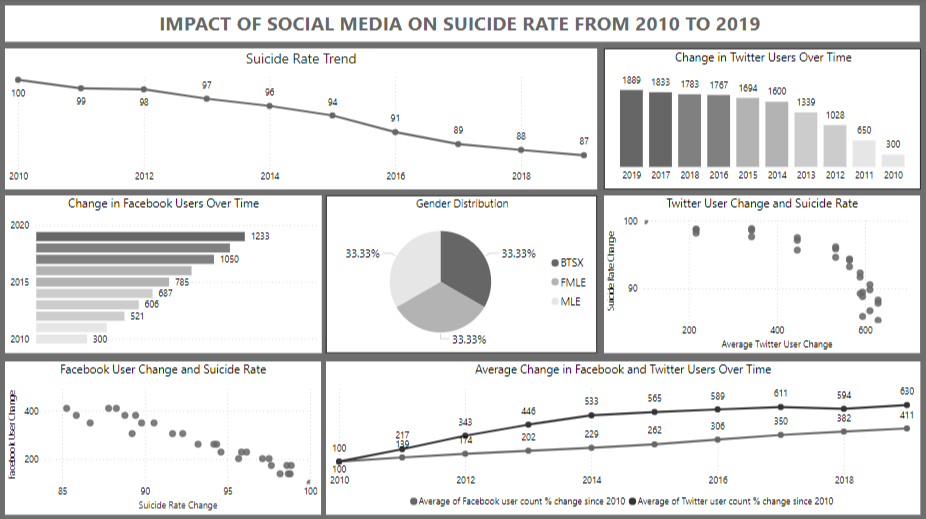

The page's visual inventory and layout, read from the dashboard file:
{"tool":"powerbi","page":{"name":"Page 1","canvas":[1280,720],"ordinal":0},"visuals":[{"type":"pieChart","title":"Gender Distribution","fields":{"Category":["social-media-impact-on-suicide-rates.sex"],"Y":["CountNonNull(social-media-impact-on-suicide-rates.sex)"]},"box":[452.8,271.1,373,217.5],"z":0},{"type":"lineChart","title":"Suicide Rate Trend","fields":{"Category":["social-media-impact-on-suicide-rates.year"],"Y":["Avg(social-media-impact-on-suicide-rates.Suicide Rate % change since 2010)"]},"box":[11,68.8,814.8,194.1],"z":1},{"type":"clusteredBarChart","title":"Change in Facebook Users Over Time","fields":{"Category":["social-media-impact-on-suicide-rates.year"],"Y":["Sum(social-media-impact-on-suicide-rates.Facebook user count % change since 2010)"]},"box":[11,271.1,436.3,217.5],"z":2},{"type":"clusteredColumnChart","title":"Change in Twitter Users Over Time","fields":{"Category":["social-media-impact-on-suicide-rates.year"],"Y":["Sum(social-media-impact-on-suicide-rates.Twitter user count % change since 2010)"]},"box":[835.4,68.8,436.3,194.1],"z":3},{"type":"scatterChart","title":"Facebook User Change and Suicide Rate","fields":{"X":["Avg(social-media-impact-on-suicide-rates.Suicide Rate % change since 2010)"],"Y":["Avg(social-media-impact-on-suicide-rates.Facebook user count % change since 2010)"],"Category":["social-media-impact-on-suicide-rates.Suicide Rate % change since 2010"]},"box":[11,499.6,434.9,210.6],"z":4},{"type":"scatterChart","title":"Twitter User Change and Suicide Rate","fields":{"X":["Avg(social-media-impact-on-suicide-rates.Twitter user count % change since 2010)"],"Y":["Avg(social-media-impact-on-suicide-rates.Suicide Rate % change since 2010)"],"Category":["social-media-impact-on-suicide-rates.Suicide Rate % change since 2010"]},"box":[835.4,271.1,434.9,217.5],"z":5},{"type":"lineChart","title":"Average Change in Facebook and Twitter Users Over Time","fields":{"Category":["social-media-impact-on-suicide-rates.year"],"Y":["Avg(social-media-impact-on-suicide-rates.Facebook user count % change since 2010)","Avg(social-media-impact-on-suicide-rates.Twitter user count % change since 2010)"]},"box":[452.8,499.6,817.5,210.6],"z":6},{"type":"textbox","box":[11,9.6,1259.4,49.5],"z":7}]}

Visuals, with their boxes in screenshot pixels (x1, y1, x2, y2), scaled from the page's 1280x720 canvas onto the 926x519 screenshot:
"Gender Distribution" pieChart: crop(328, 195, 597, 352)
"Suicide Rate Trend" lineChart: crop(8, 50, 597, 190)
"Change in Facebook Users Over Time" clusteredBarChart: crop(8, 195, 324, 352)
"Change in Twitter Users Over Time" clusteredColumnChart: crop(604, 50, 920, 190)
"Facebook User Change and Suicide Rate" scatterChart: crop(8, 360, 323, 512)
"Twitter User Change and Suicide Rate" scatterChart: crop(604, 195, 919, 352)
"Average Change in Facebook and Twitter Users Over Time" lineChart: crop(328, 360, 919, 512)
textbox: crop(8, 7, 919, 43)
